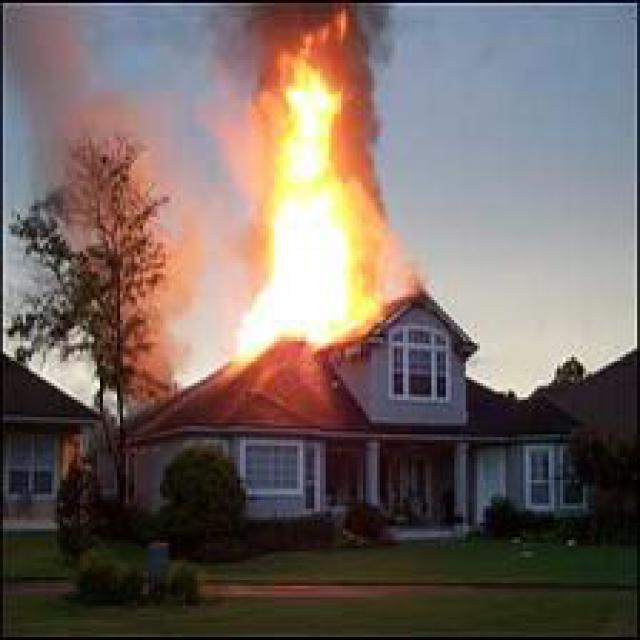fire: (203, 8, 391, 363)
